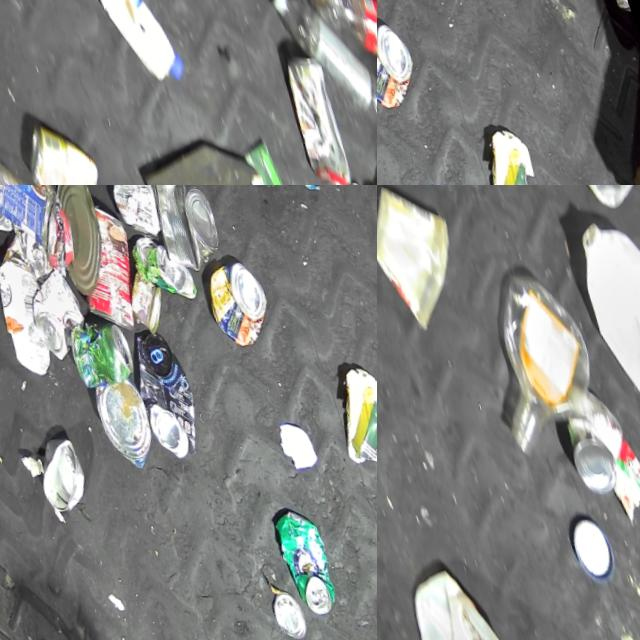can: (48, 193, 154, 336), (263, 41, 354, 185), (111, 322, 205, 460), (533, 378, 632, 499), (30, 185, 117, 293), (258, 499, 335, 615), (131, 185, 227, 273), (1, 107, 107, 185), (191, 250, 275, 347), (13, 260, 92, 361), (79, 371, 156, 471), (56, 309, 135, 388), (122, 222, 195, 305), (17, 431, 87, 517), (0, 185, 71, 256), (90, 185, 173, 239), (377, 11, 420, 109), (113, 262, 169, 332), (253, 582, 297, 638)
milk_jug: (549, 192, 640, 428), (382, 551, 505, 640)
plastic_bottle: (256, 0, 377, 132), (293, 0, 377, 66)
